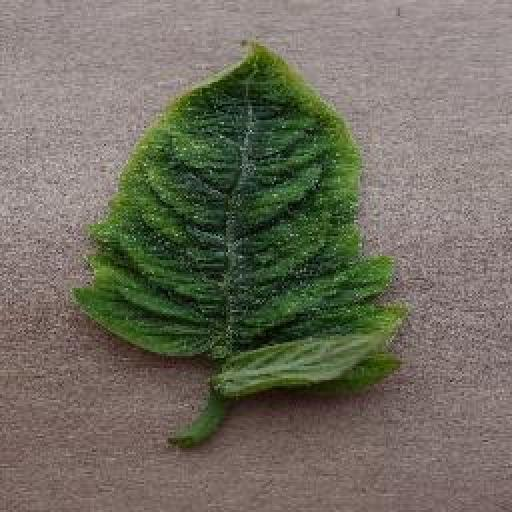disease_tomato: (73, 37, 408, 399)
